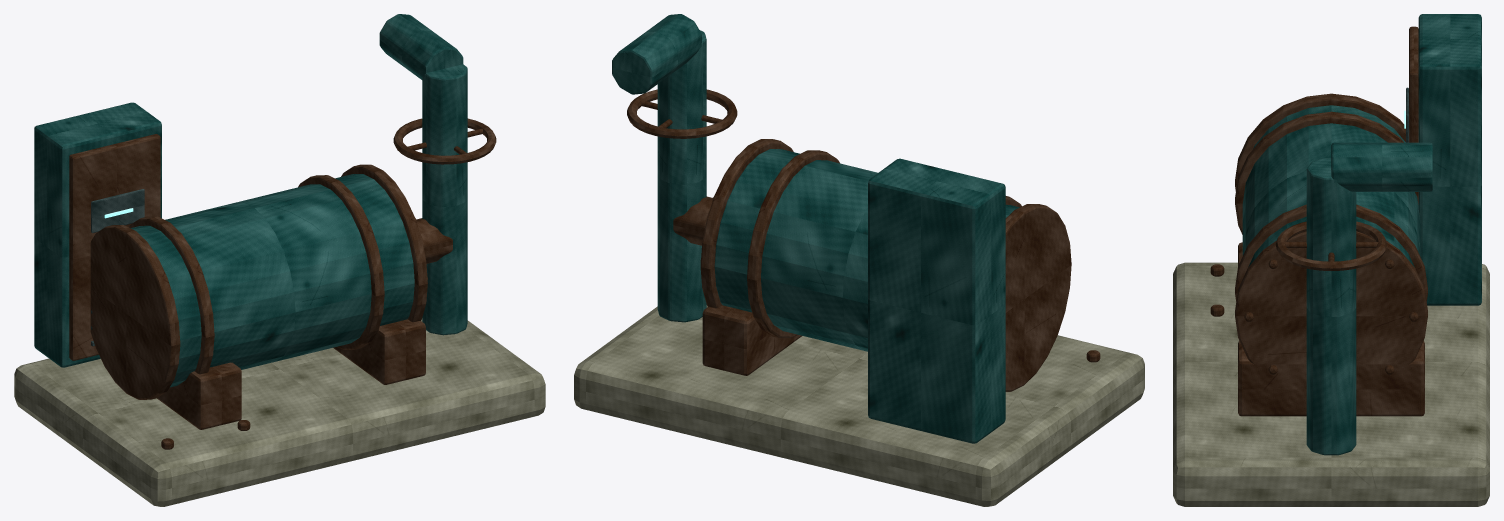
3 views of the same model, side by side, from view 1: azimuth 30°, elevation 25°; view 2: azimuth 150°, elevation 25°; view 3: azimuth 270°, elevation 25° (orthographic). The views are drawn at different scales.
Visible parts, largest first — view 1: Coast_pump; view 2: Coast_pump; view 3: Coast_pump.
Part boxes in pixels (left/top/right/bottom): Coast_pump: left=14, top=14, right=545, bottom=506; Coast_pump: left=574, top=14, right=1144, bottom=506; Coast_pump: left=1173, top=14, right=1489, bottom=506.
Bounding box in the file's own units: 3.2 × 2.44 × 2.
Materials: 5 (4 with a texture image).
